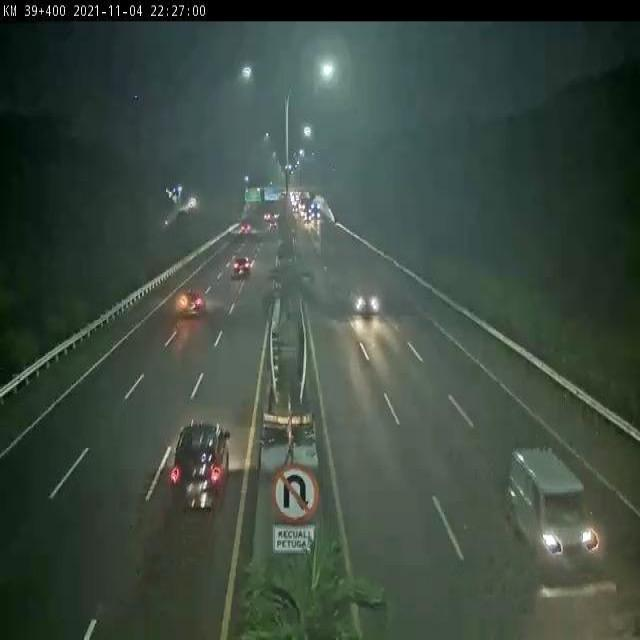car: (507, 441, 600, 568), (171, 424, 232, 512), (351, 279, 380, 316), (177, 287, 208, 320), (233, 256, 252, 280)
